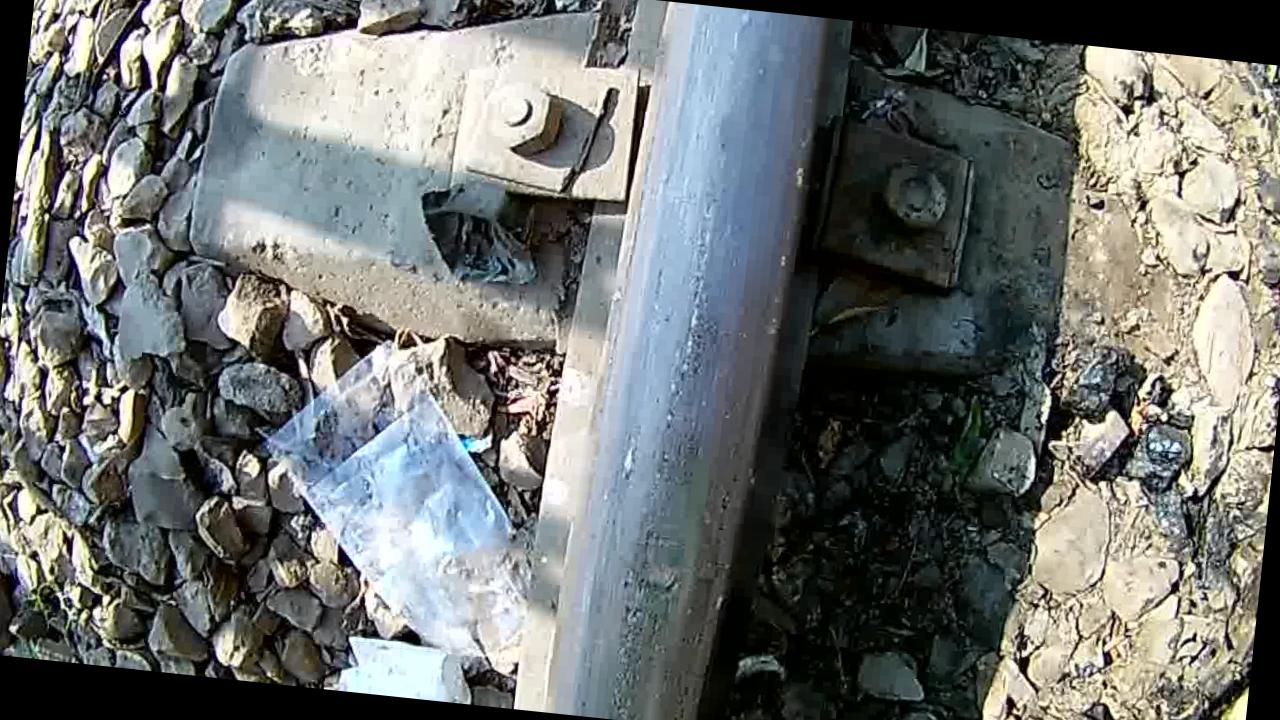bolt_missing: (576, 377, 762, 705)
